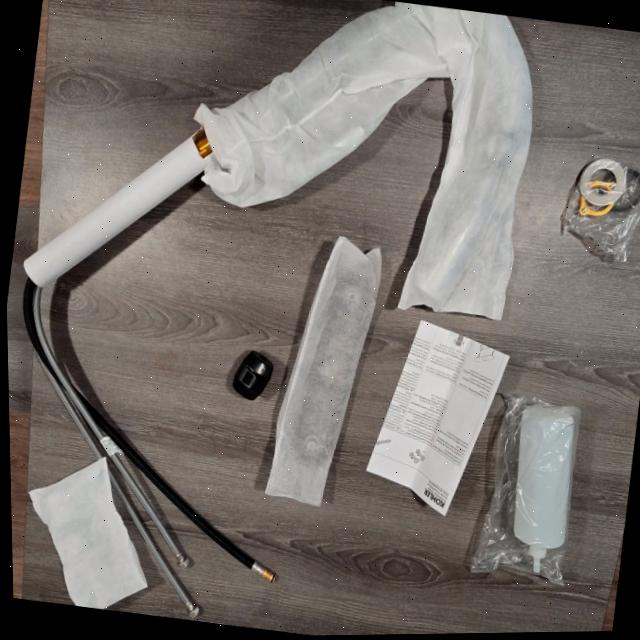1c: (22, 2, 531, 583), (108, 468, 199, 618)
2c: (28, 457, 146, 609)
3: (470, 396, 579, 585)
4c: (264, 237, 380, 506)
5: (231, 350, 273, 400)
6: (560, 158, 640, 261)
8: (366, 321, 509, 515)
